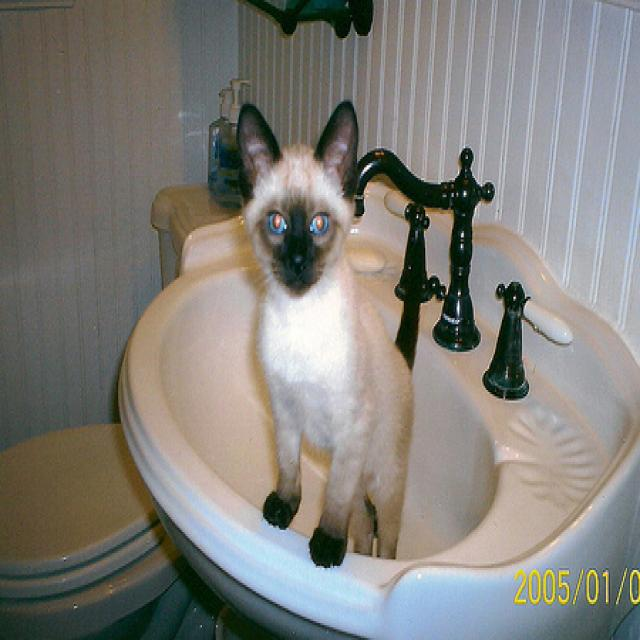Siamese: (234, 96, 426, 573)
